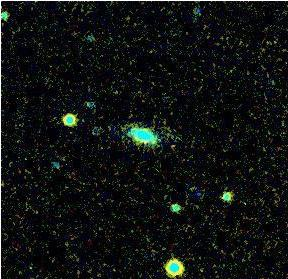star: (139, 128, 169, 158)
